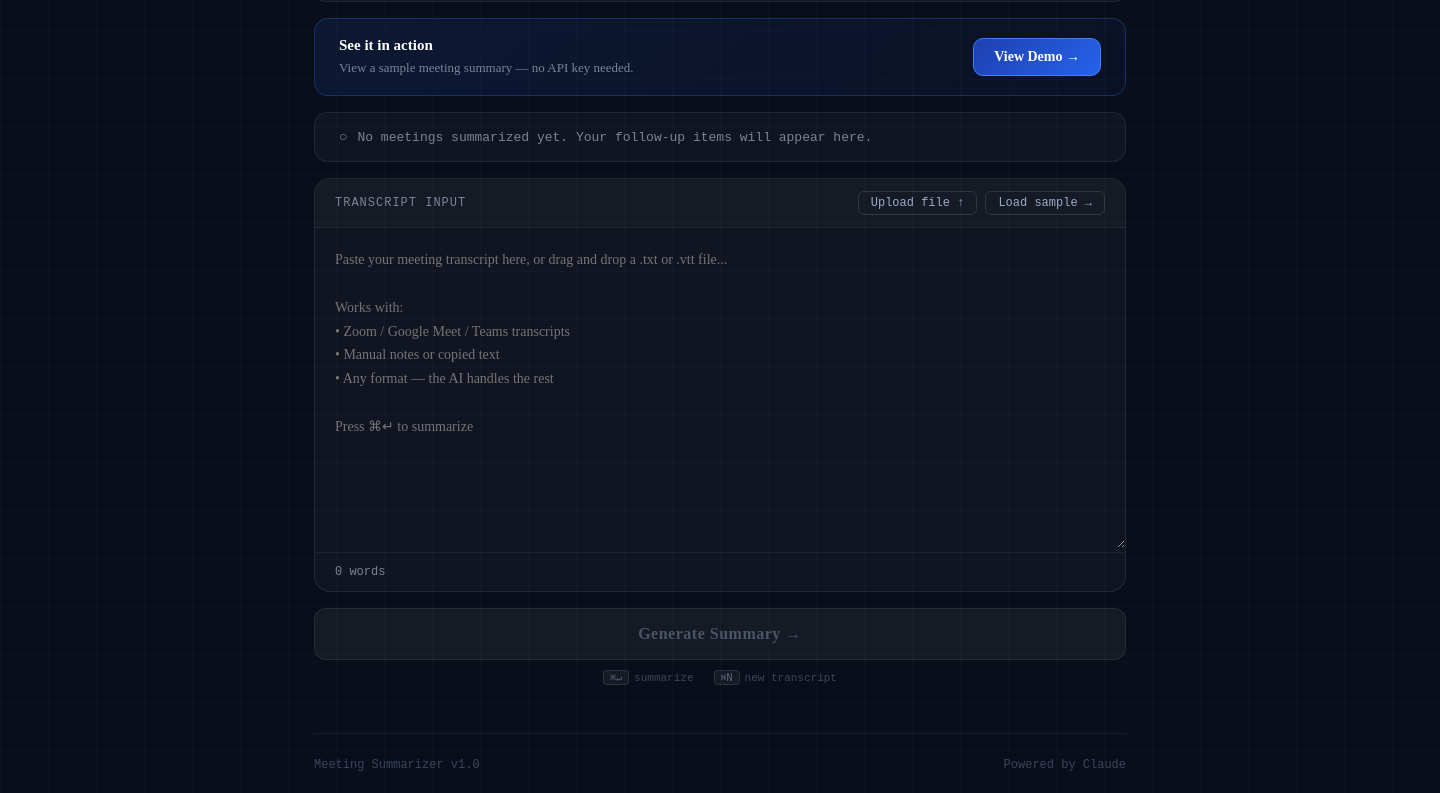
Test: summarize: input validation › shows an error when no API key is provided
(page scrolled)
Replace the text in the text box with placeholder "Paste your meeting transcript" with "Some meeting text here" at (720, 388), box top-left (315, 228), bottom-right (1125, 548)
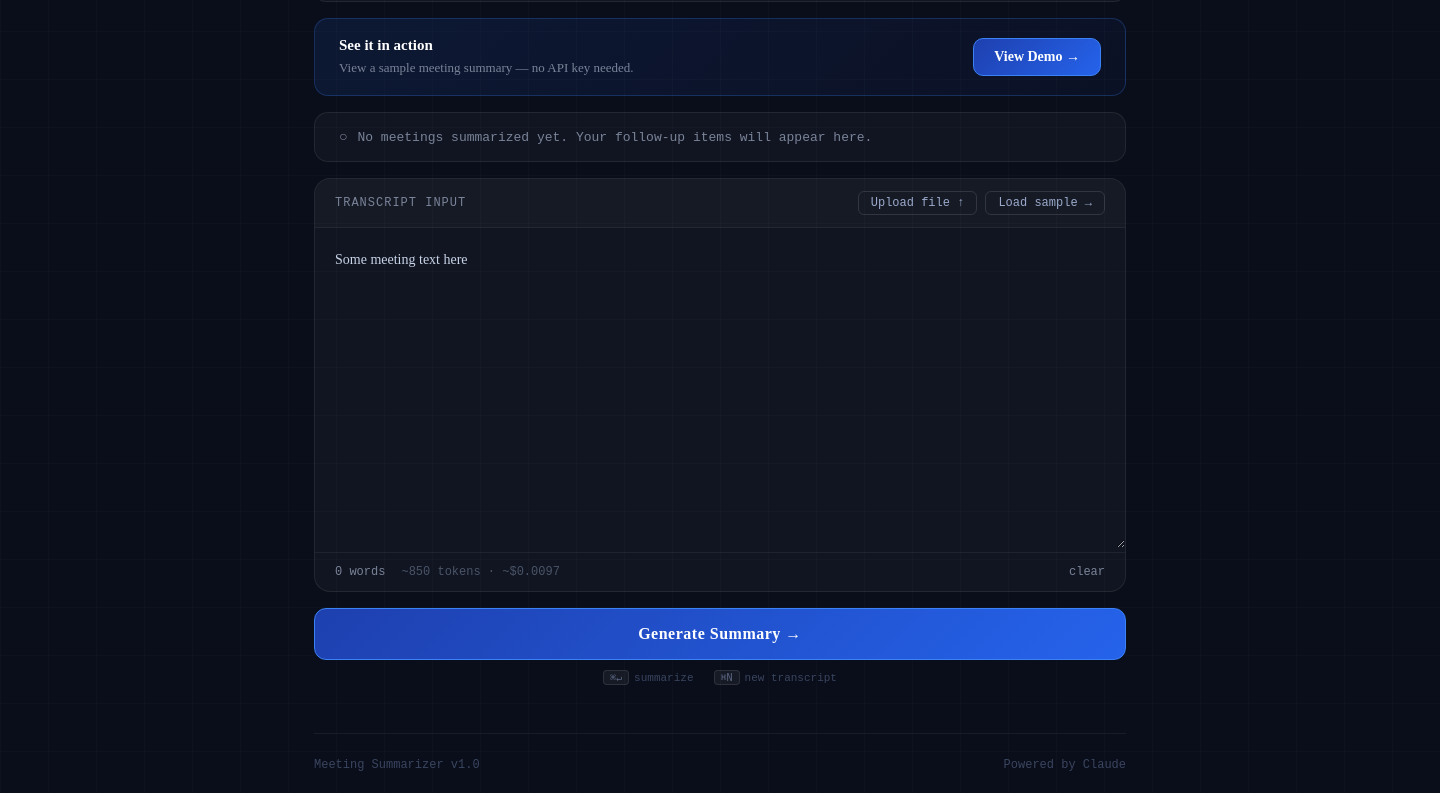
Click the button "Generate Summary →" at (720, 634), box top-left (314, 608), bottom-right (1126, 660)
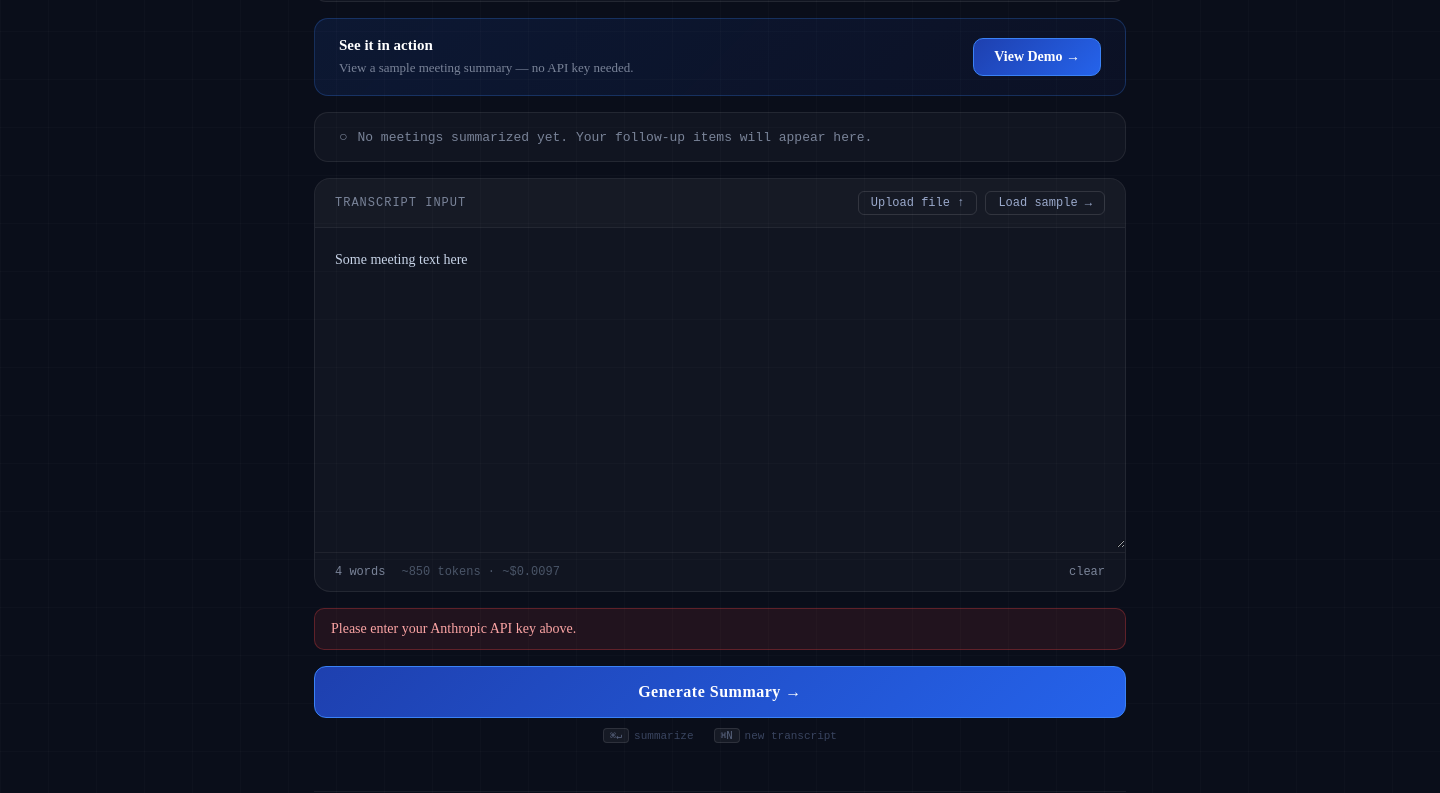
Result: the text "Please enter your Anthropic API key above." is shown at top-left (314, 608), bottom-right (1126, 650)
